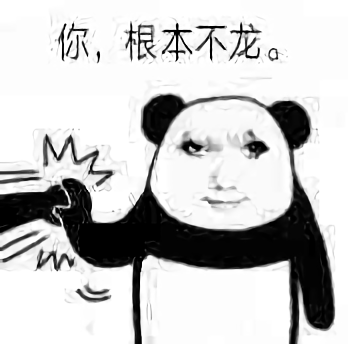dragon: (177, 127, 277, 217)
